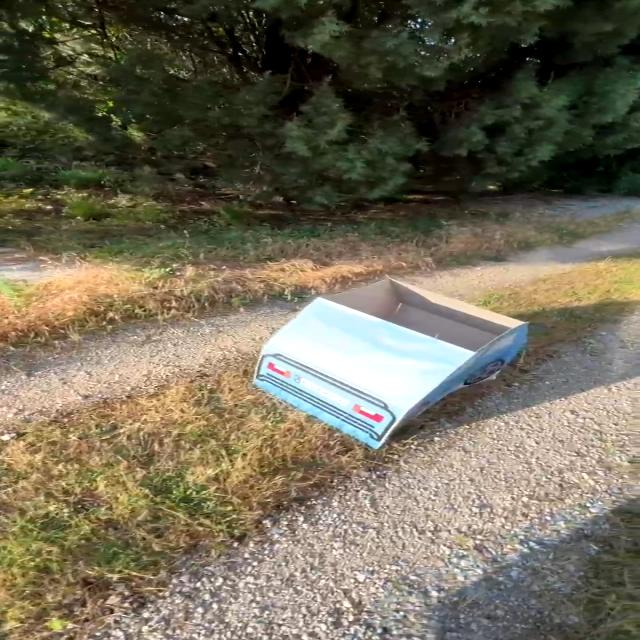blue_car: (185, 256, 571, 462)
